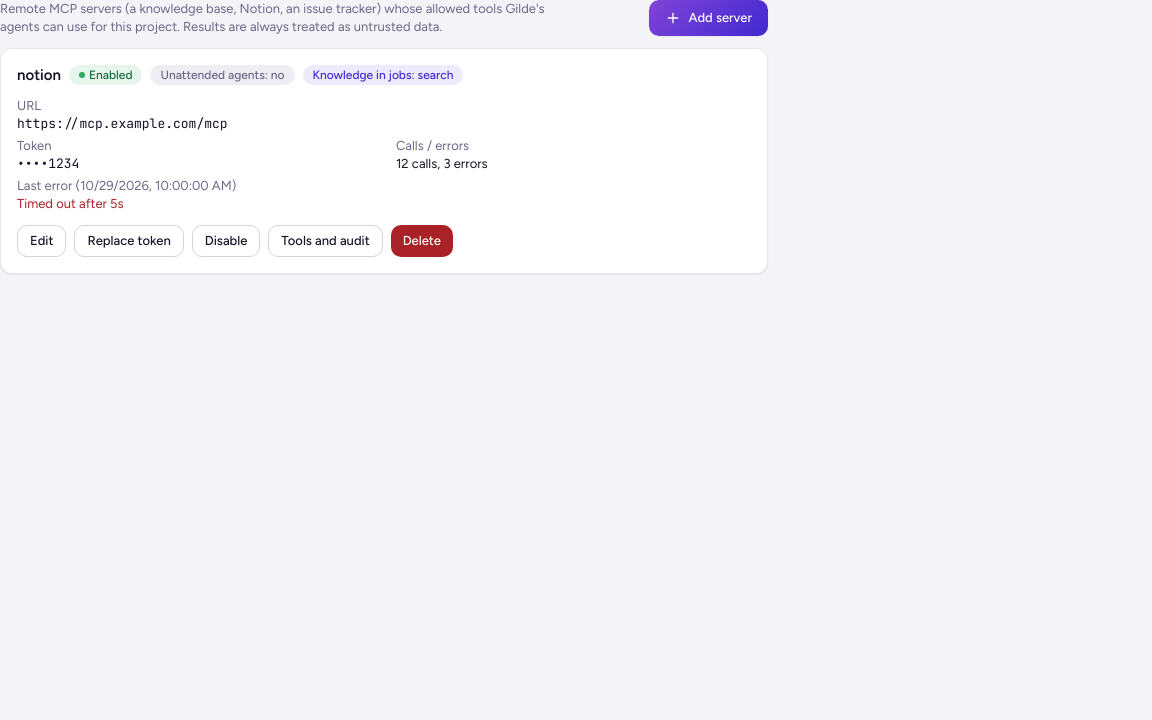
Test: McpServersTab › shows the knowledge setting on the card and a validation issue on the tool field
The width and height of the screenshot is (1152, 720).
Check: the text "Knowledge in jobs: search" is shown, box top-left (302, 65), bottom-right (463, 85)
Click the button with aria-label "Edit notion": (42,241) top-left (17, 225), bottom-right (66, 257)
(page scrolled)
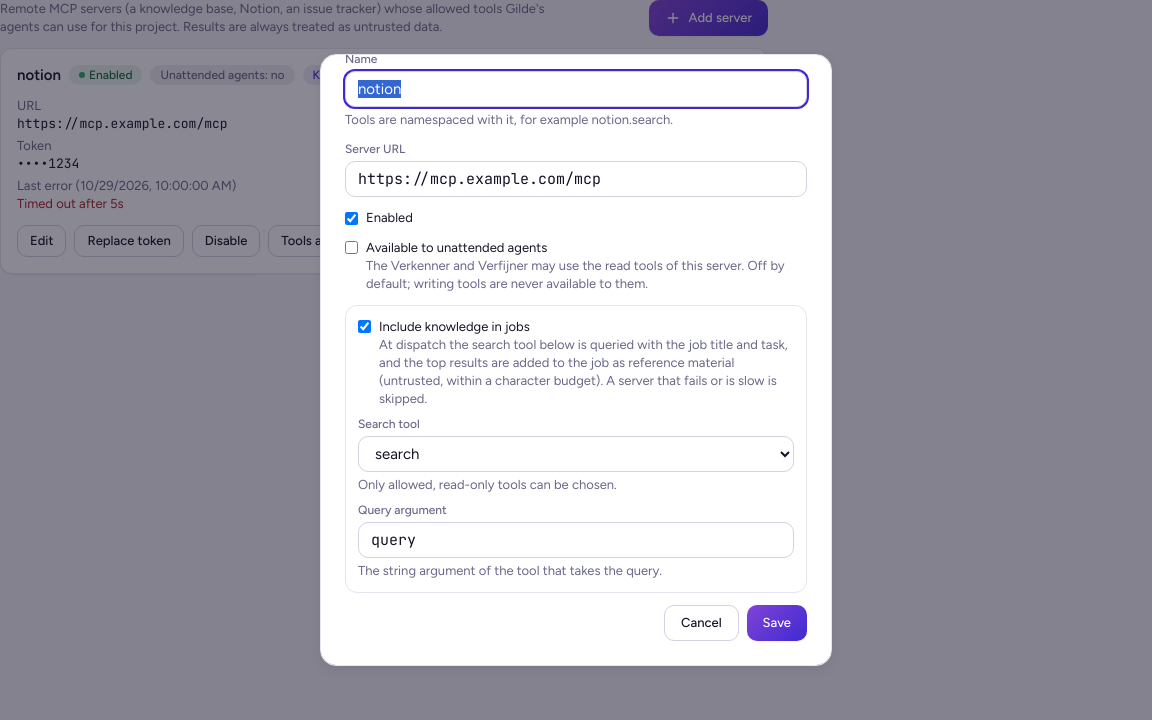
Click the button "Save": (777,623) top-left (747, 605), bottom-right (807, 641)
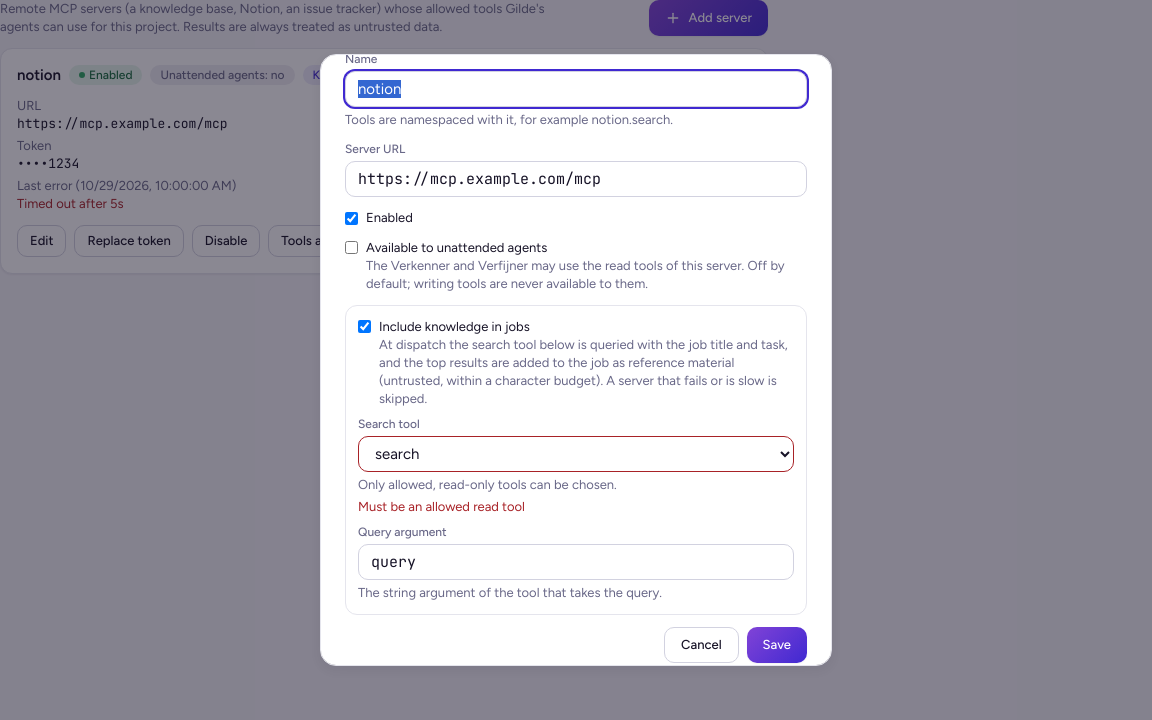
Check: the text "Must be an allowed read tool" is shown, box top-left (358, 499), bottom-right (525, 514)
